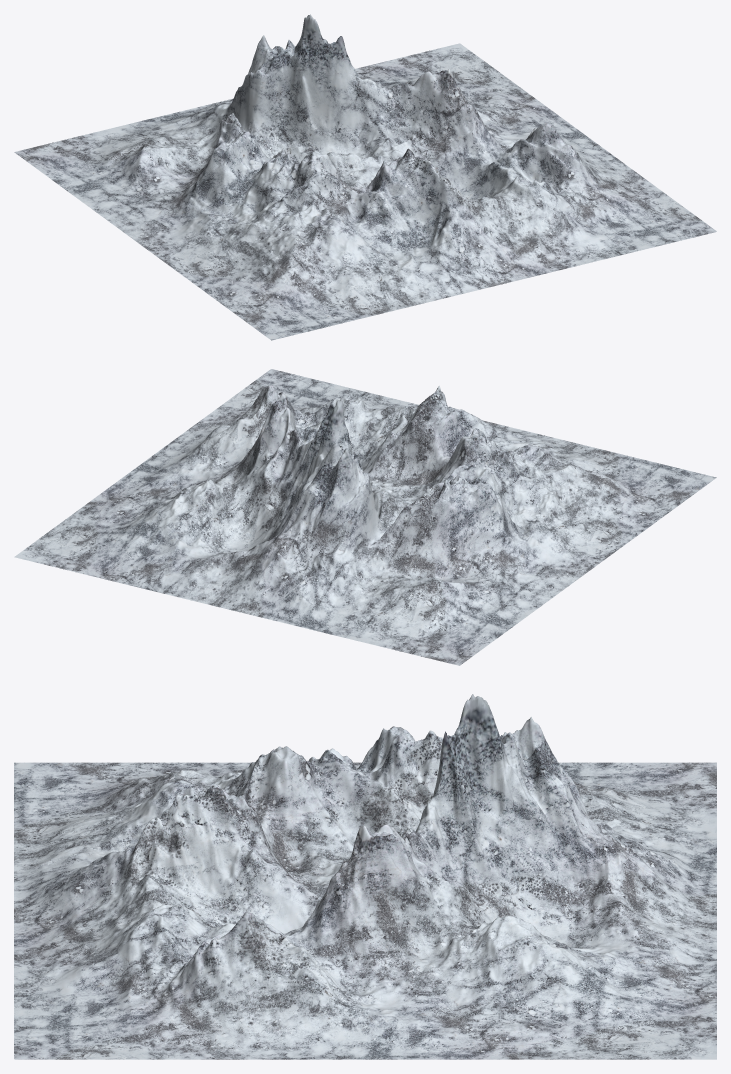
File: mountain_1.glb
3 views of the same model, one above another, from view 1: azimuth 30°, elevation 25°; view 2: azimuth 150°, elevation 25°; view 3: azimuth 270°, elevation 25° (orthographic). The views are drawn at different scales.
Visible parts, largest first — view 1: mountain; view 2: mountain; view 3: mountain.
Boxes of the visible parts, x1,y1,x2,y2 form: mountain: (14, 14, 716, 340); mountain: (14, 369, 716, 665); mountain: (14, 694, 716, 1059).
Size of the model in its own units: 1000 by 324 by 1000.
Materials: 1 (1 with a texture image).
